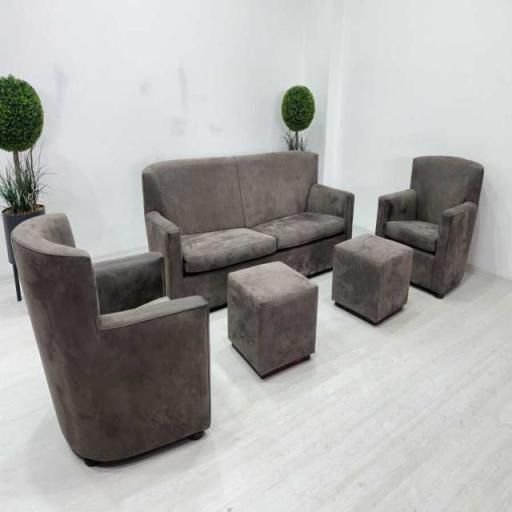sofa: (16, 127, 486, 449)
